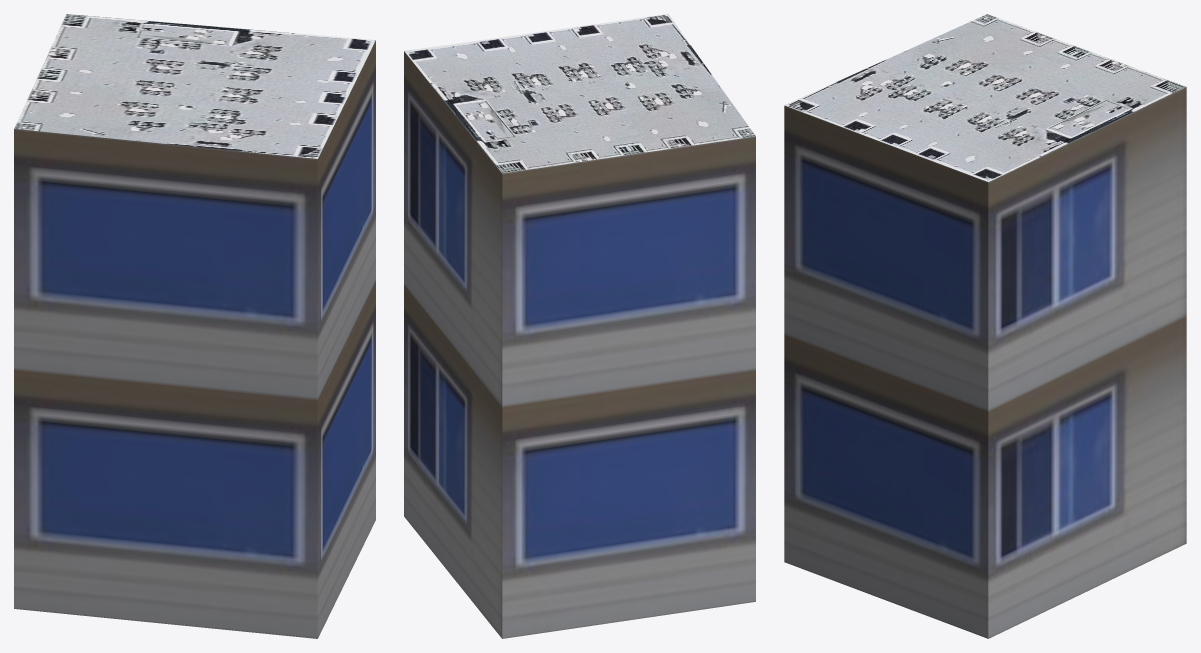
File: ResTex__3427.fbx
The picture shows the model from 3 angles, left to right: view 1: azimuth 30°, elevation 25°; view 2: azimuth 150°, elevation 25°; view 3: azimuth 270°, elevation 25°; orthographic projection. The views are drawn at different scales.
Visible parts, largest first — view 1: CityEngineMaterial_23_m, CityEngineMaterial_2_m; view 2: CityEngineMaterial_23_m, CityEngineMaterial_2_m; view 3: CityEngineMaterial_23_m, CityEngineMaterial_2_m.
Boxes of the visible parts, x1,y1,x2,y2 form: CityEngineMaterial_23_m: (14,40,375,638); CityEngineMaterial_2_m: (14,14,375,158); CityEngineMaterial_23_m: (404,51,755,638); CityEngineMaterial_2_m: (404,14,755,173); CityEngineMaterial_23_m: (784,87,1186,638); CityEngineMaterial_2_m: (784,14,1186,181).
Size of the model in its own units: 4.74 by 6 by 4.79.
2 materials, 2 textured.
